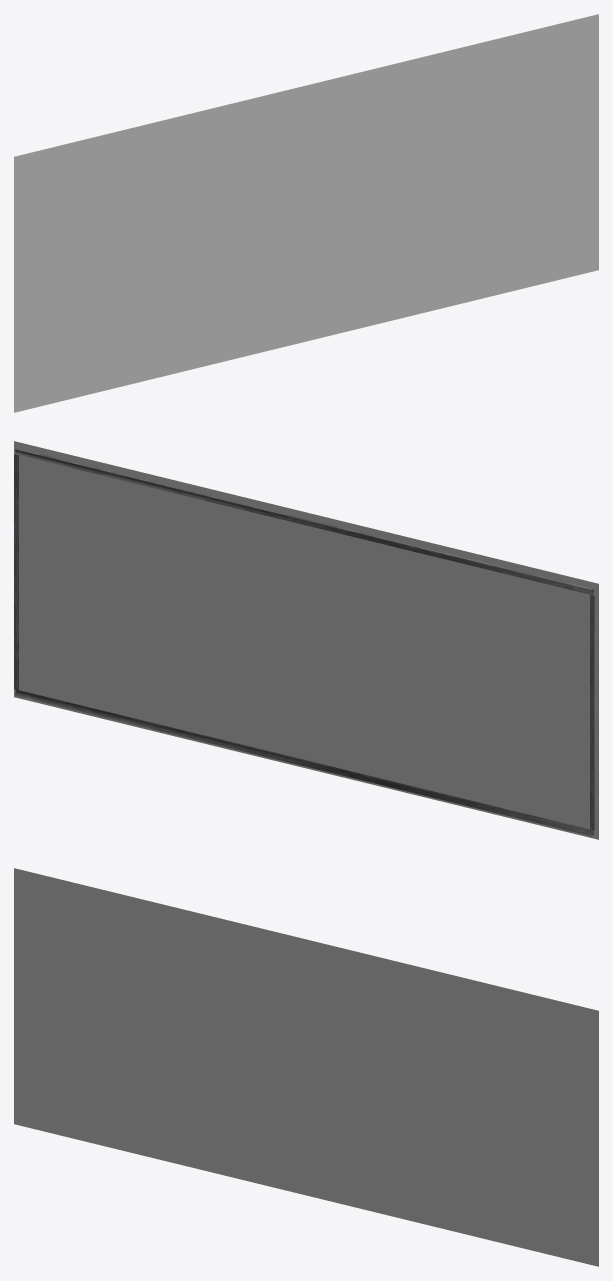
Rendered from weilan.FBX.
The picture shows the model from 3 angles, top to bottom: view 1: azimuth 30°, elevation 25°; view 2: azimuth 150°, elevation 25°; view 3: azimuth 330°, elevation 25°; orthographic projection.
Parts seen in each view (by area): view 1: weilan; view 2: weilan, polySurface171; view 3: weilan.
Boxes of the visible parts, x1,y1,x2,y2 form: weilan: (14, 14, 598, 412); weilan: (14, 441, 598, 839); polySurface171: (14, 448, 594, 836); weilan: (14, 868, 598, 1266).
Bounding box in the file's own units: 4.88 × 2.04 × 0.0391.
